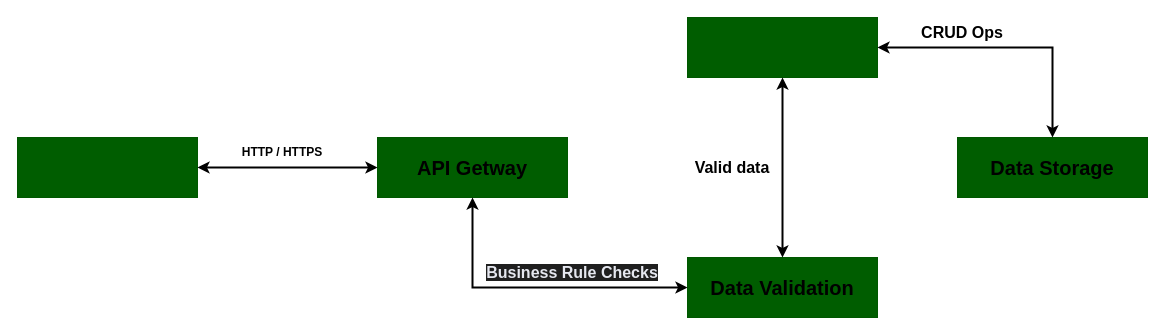
The diagram is 1165 pixels wide and 335 high, and some of its shapes have lost their labels. Here are the shapes that lost their labels. From the top down, the centre of each, then its label:
At point 782,47: "Data Proccess Logic".
At point 107,167: "Client Request".
